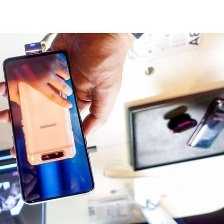phone: (0, 46, 98, 210), (15, 52, 80, 167), (186, 97, 224, 151)
